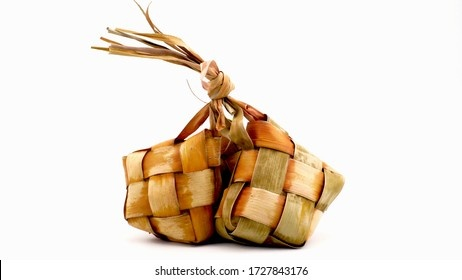ketupat: (215, 115, 347, 248), (121, 130, 225, 247)
